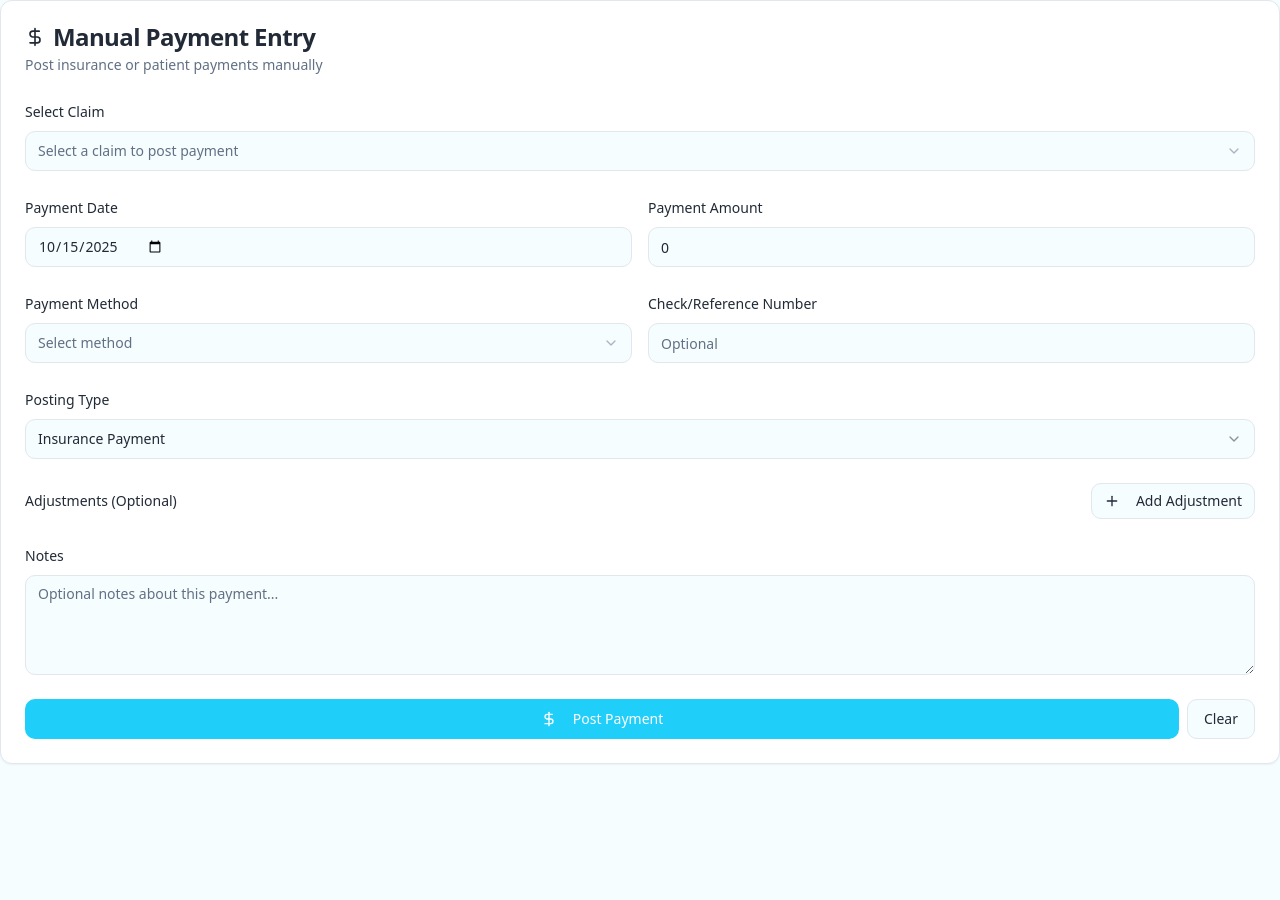
Scenario: ManualPaymentForm › Adjustments › should allow adding adjustments
Click the button "Add Adjustment" at (1173, 501), box [1091,483,1255,519]
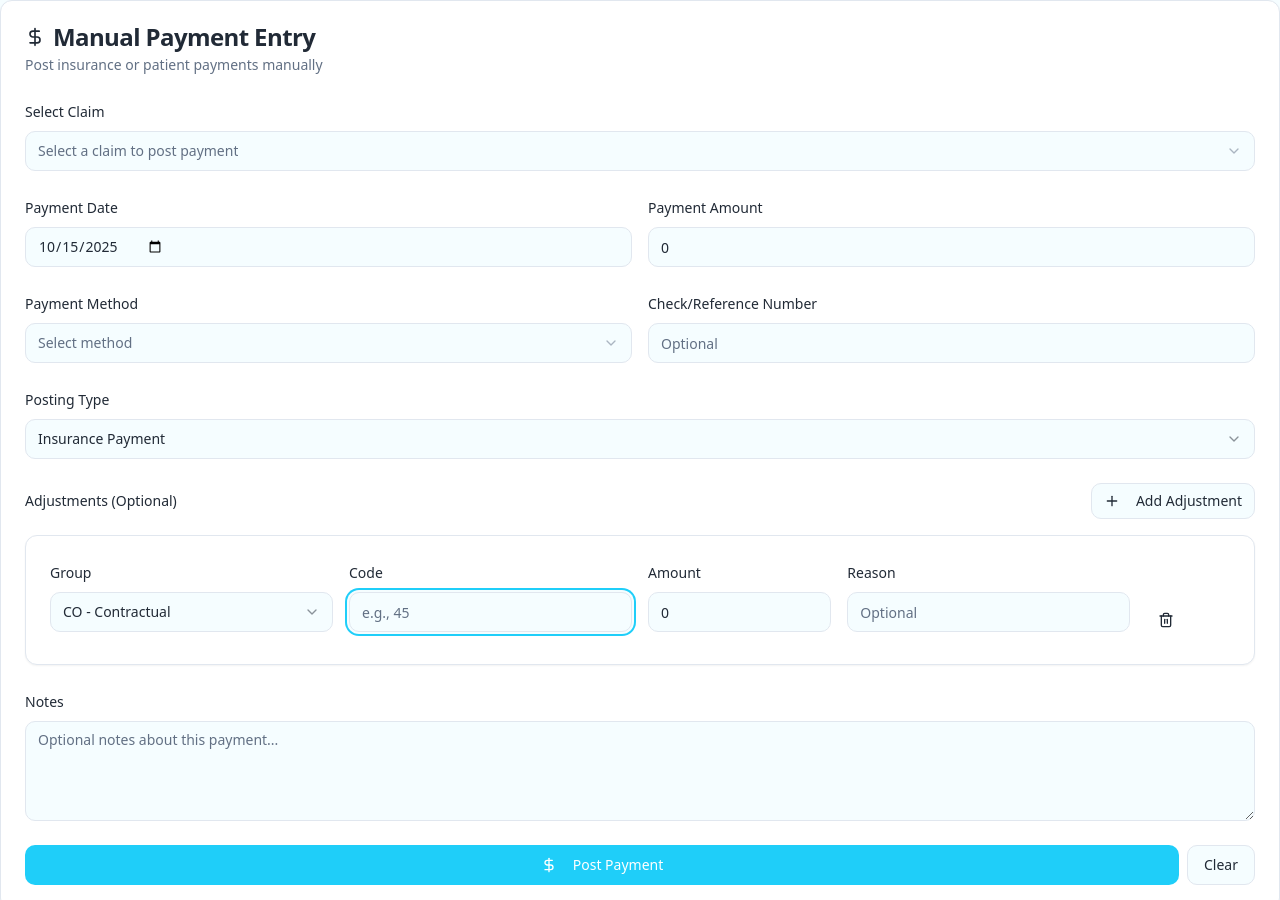
expect the text "Group" is shown: met, box [50,563,91,582]
expect the text "Code" is shown: met, box [349,563,383,582]
expect the text "Amount" is shown: met, box [648,563,701,582]
